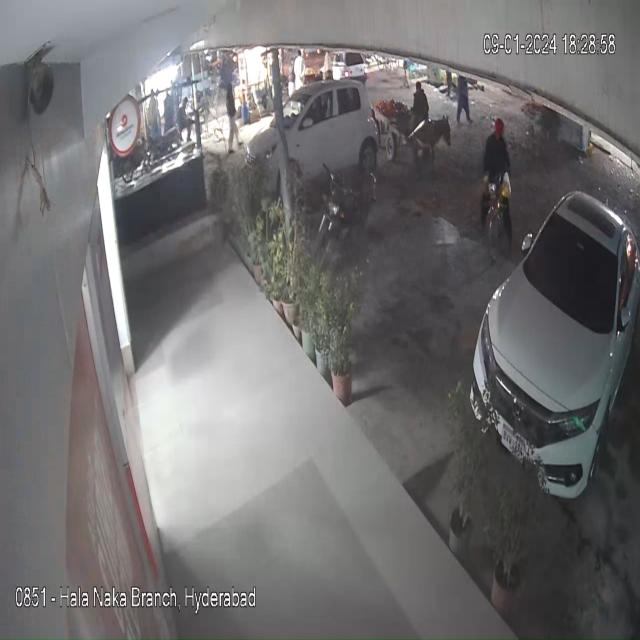Car: (470, 174, 640, 517), (245, 82, 396, 200)
Motorcycle: (308, 153, 375, 261), (476, 163, 518, 269)
